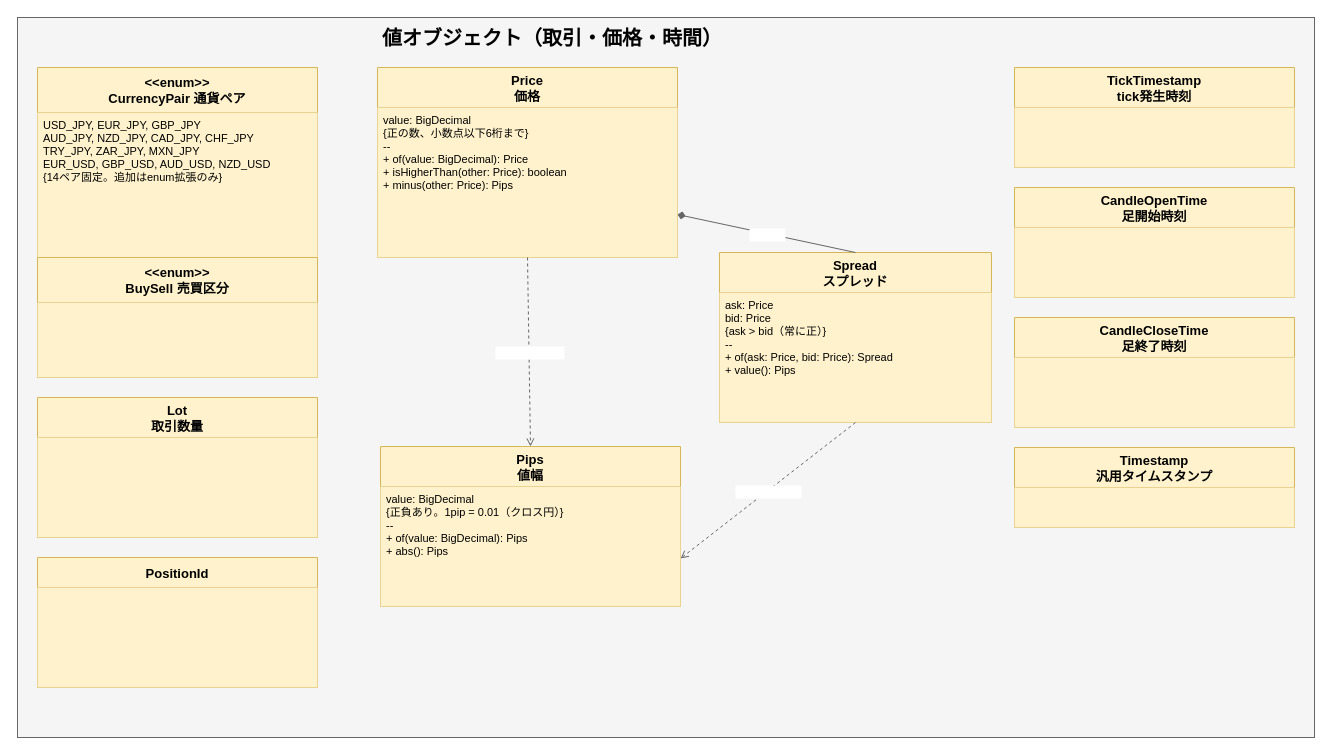
This 1332x755 diagram has some shape labels left out. The shapes that lost their labels are listed below. From the top down, each one's centre as x and y in pixels, then its label:
(x=1154, y=137): value: Instant {未来日時は不可}
(x=1154, y=262): value: Instant {時間足の境界に丸められた時刻}
(x=177, y=339): BUY SELL {2値のみ}
(x=1154, y=392): value: Instant {CandleOpenTime + TimeFrame期間}
(x=177, y=487): value: int {100以上500,000以下、100の倍数} -- + of(value: int): Lot
(x=1154, y=507): value: Instant
(x=177, y=637): value: UUID {UUID形式} -- + generate(): PositionId
